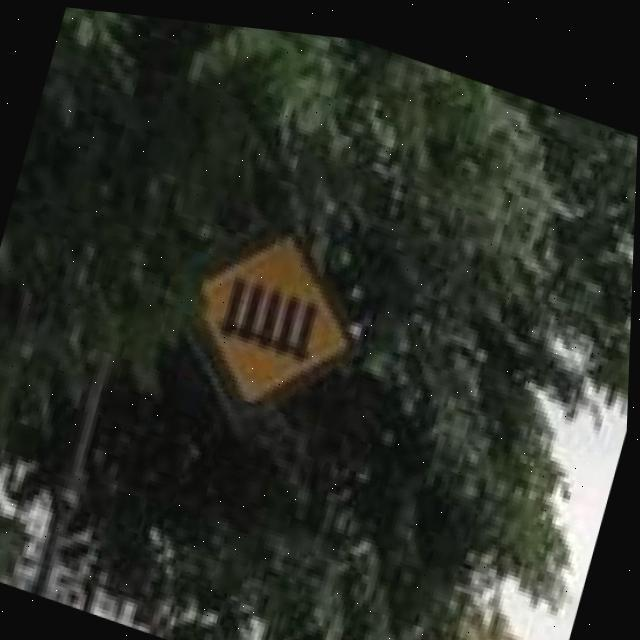Peringatan Perlintasan Kereta Api: (190, 212, 362, 416)
